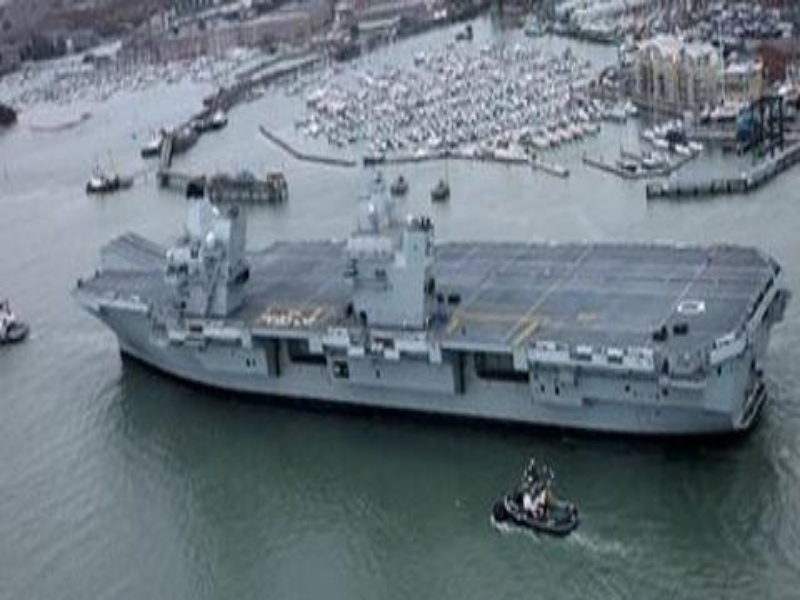boat: (484, 461, 585, 543), (1, 296, 31, 346)
carrier: (90, 212, 781, 440)
